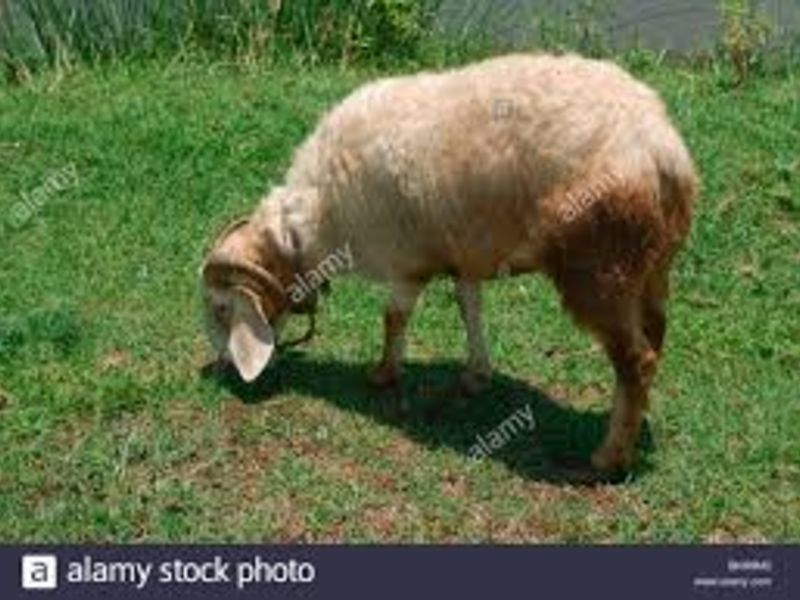sheep: (197, 38, 691, 485)
